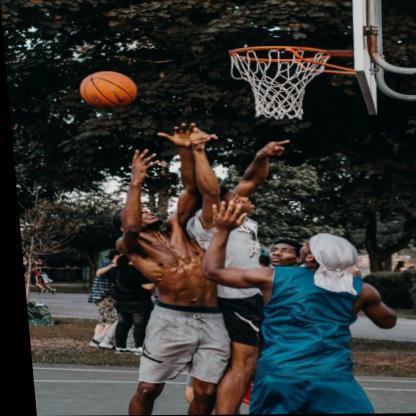basketball: (76, 71, 137, 109)
rim: (224, 45, 333, 120)
